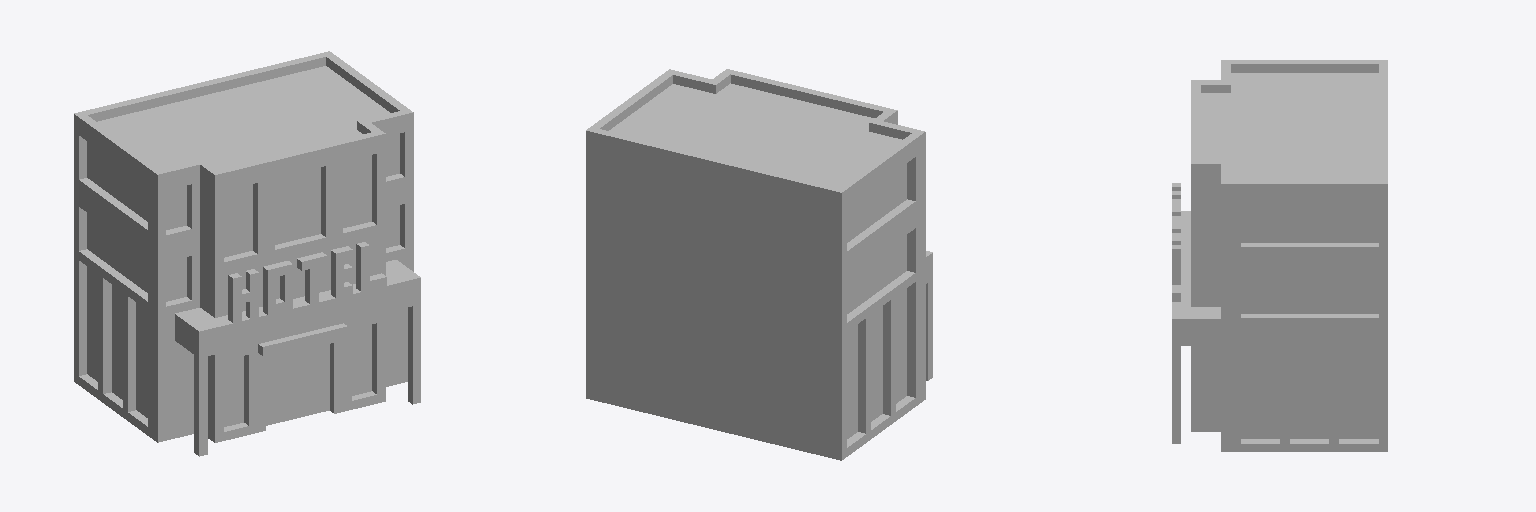
File: Hotel.obj
3 views of the same model, side by side, from view 1: azimuth 30°, elevation 25°; view 2: azimuth 150°, elevation 25°; view 3: azimuth 270°, elevation 25° (orthographic).
Parts seen in each view (by area): view 1: object 1; view 2: object 1; view 3: object 1.
Part boxes in pixels (bbox=[...]): object 1: bbox=[74, 51, 420, 456]; object 1: bbox=[586, 69, 932, 460]; object 1: bbox=[1172, 60, 1387, 451].
Bounding box in the file's own units: 3 × 3 × 2.2.